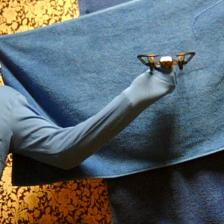drone: (138, 50, 196, 73)
